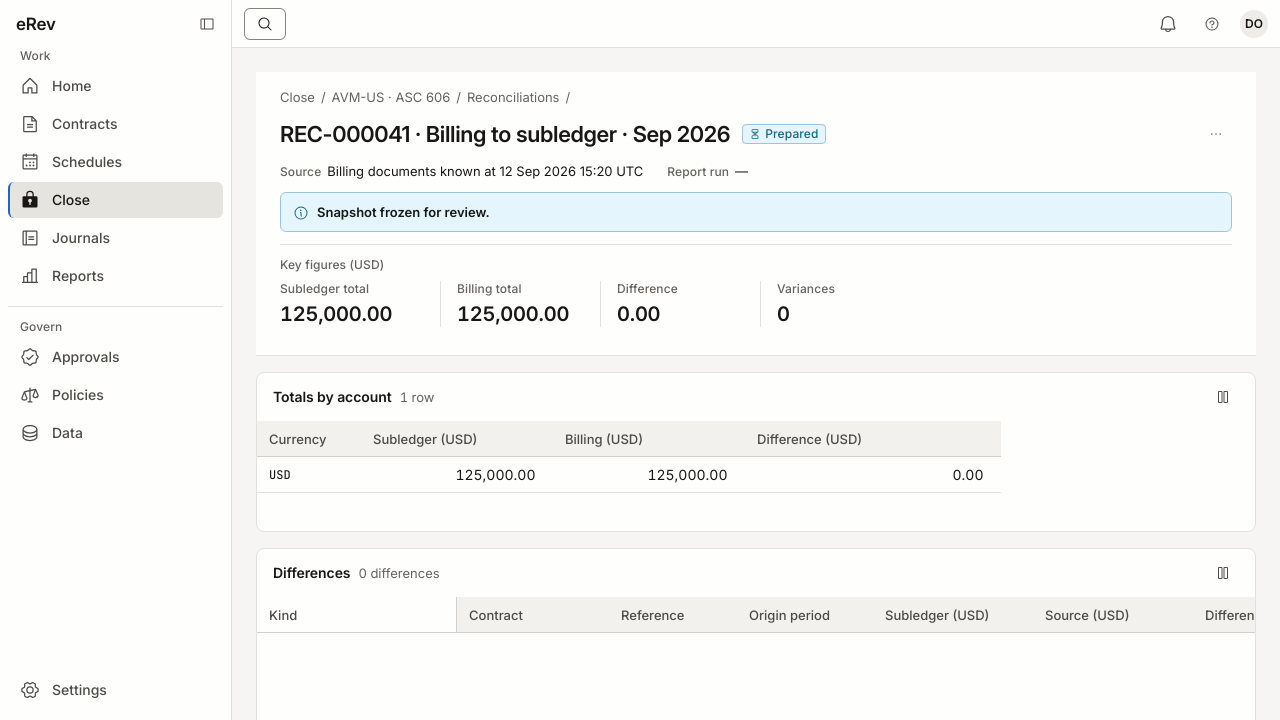
Test case: SF-05:reconciliation › hides the reviewer sign-off from every holder of integration.manage (SoD-7)
What coordinates should you click on to do the following:
click the button named "More reconciliation actions"
I would click on:
 (1216, 134)
Its box is x1=1200 y1=118 x2=1232 y2=150.
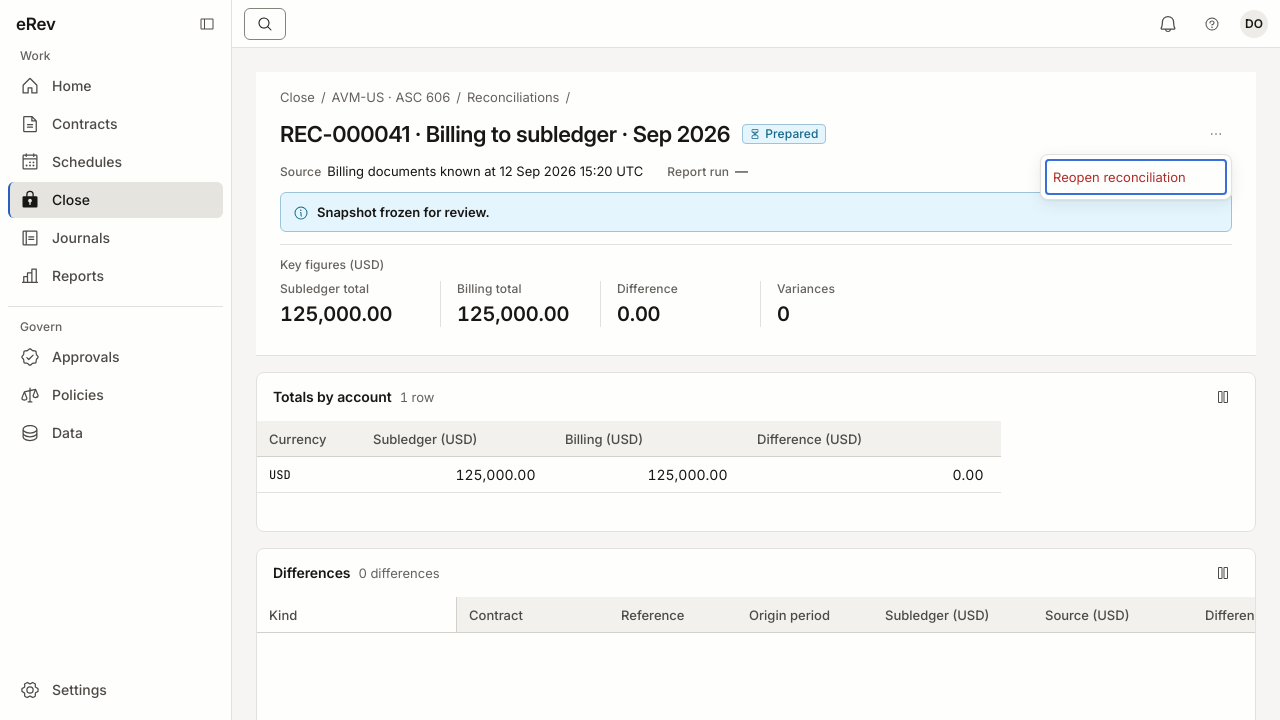
Now the menu item "Reopen reconciliation" is shown, box x1=1045 y1=159 x2=1227 y2=195
